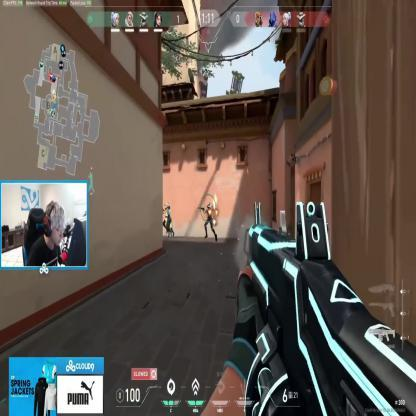enemy: (201, 201, 218, 243), (162, 199, 174, 237)
enemy_head: (166, 202, 170, 208), (207, 202, 210, 209)
